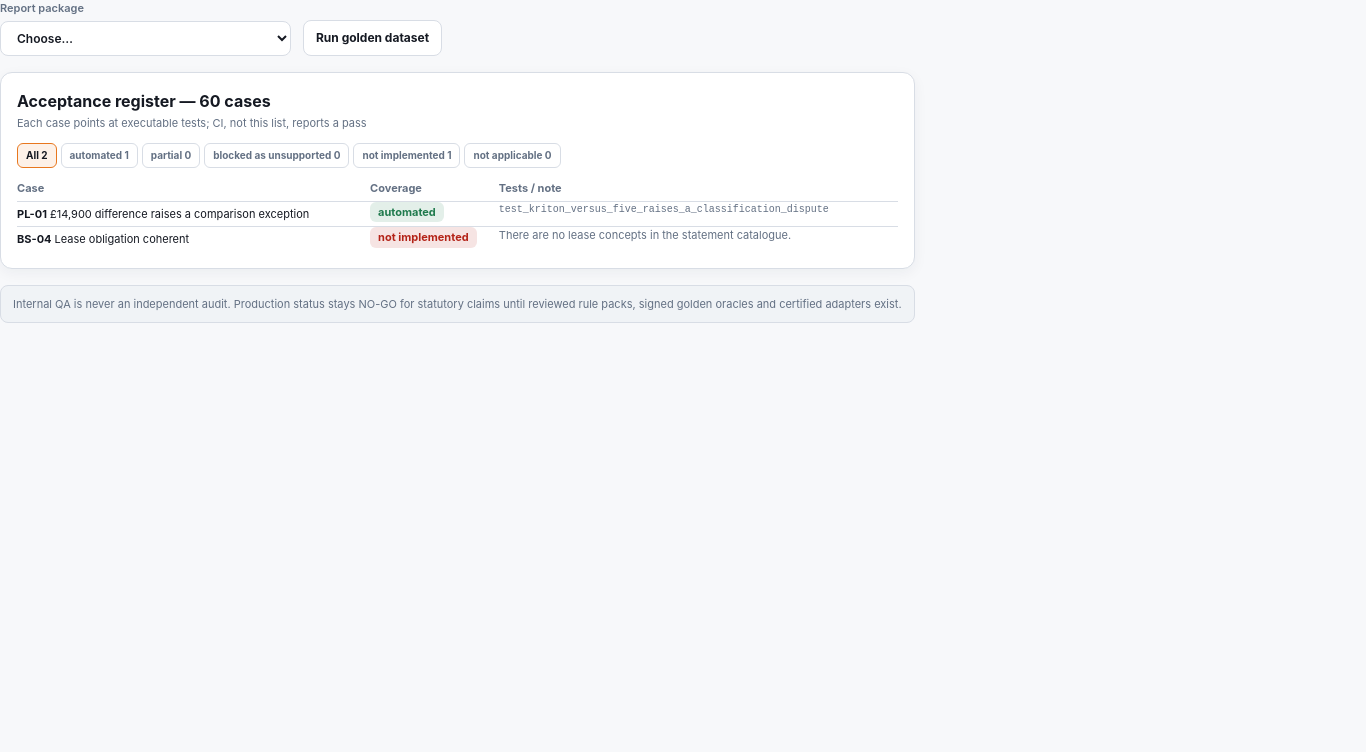
Test: Integration command centre (Document 08) › shows the chain with error codes, invariants, hard blockers and the manifest
Select "Northbridge Trading Ltd · v1" in the dropdown labelled "Report package": (146, 38) [0,20,291,56]
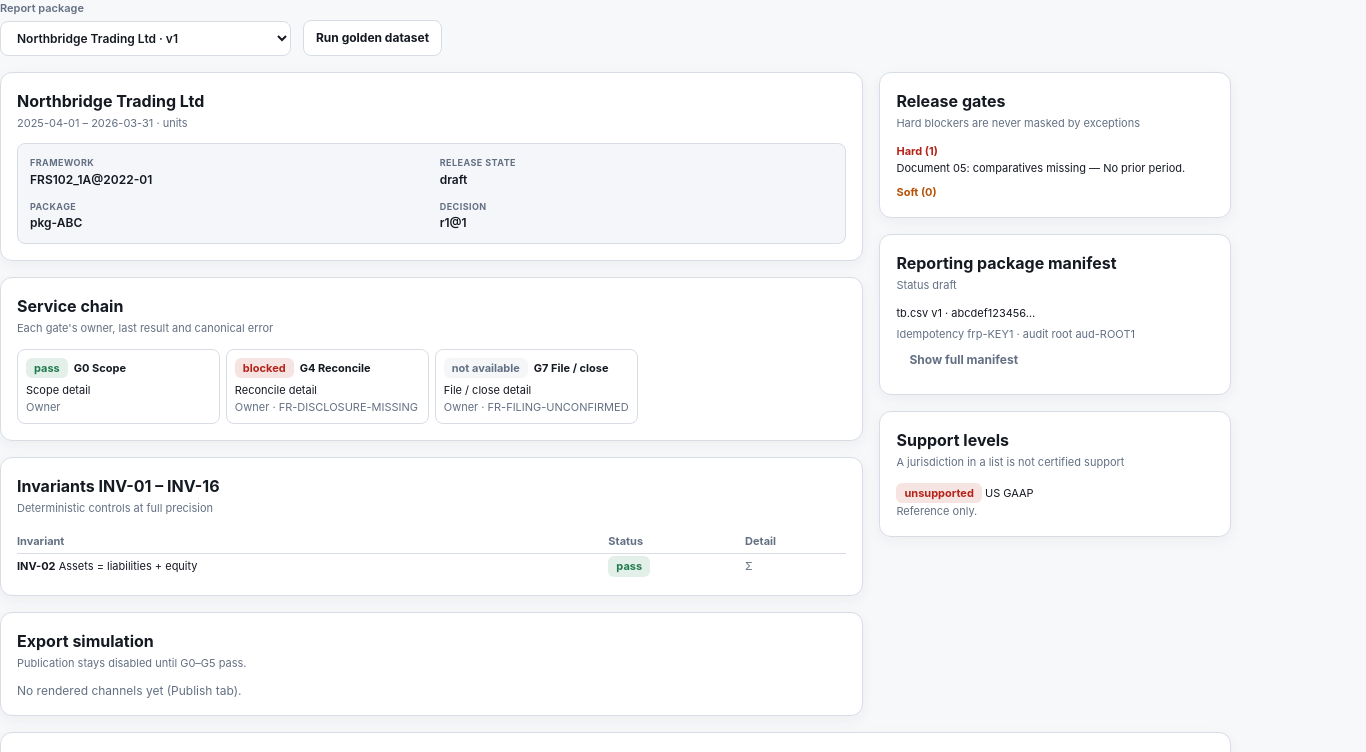
Expected: the text "G4 Reconcile" is shown, [300,360,371,376]
Expected: the text "Owner · FR-DISCLOSURE-MISSING" is shown, [235,398,420,415]
Expected: the text "INV-02" is shown, [17,559,56,573]
